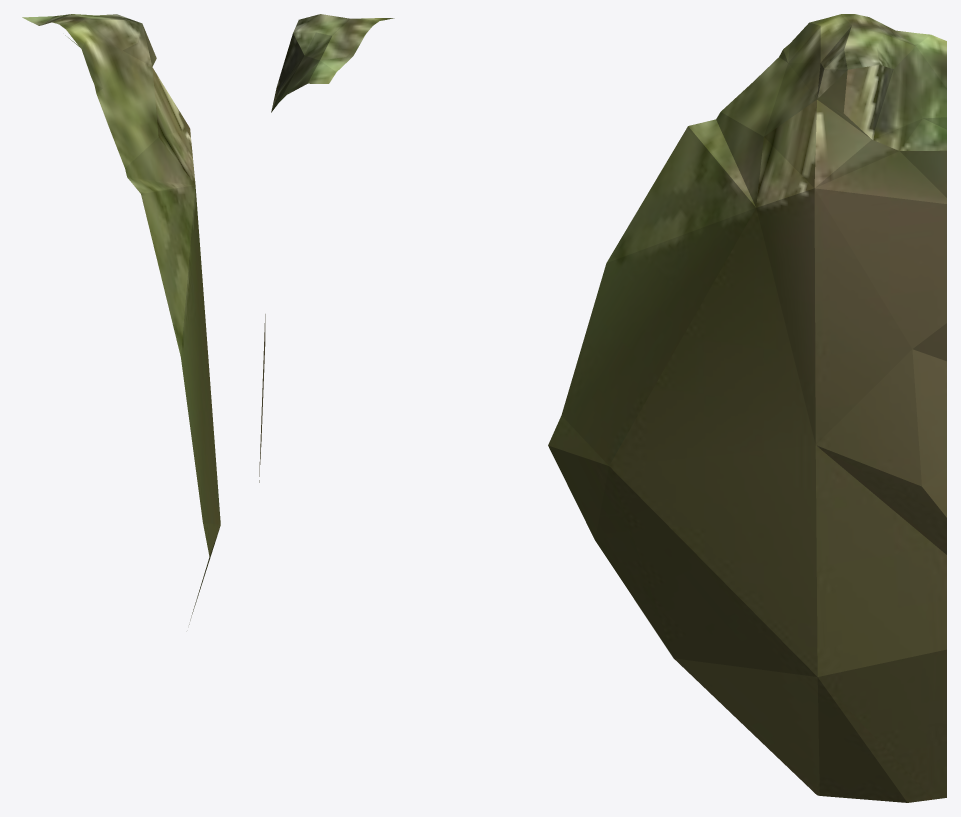
3 renders of one model, left to right at view 1: azimuth 30°, elevation 25°; view 2: azimuth 150°, elevation 25°; view 3: azimuth 270°, elevation 25°, orthographic. The views are drawn at different scales.
Bounding box in the file's own units: 0.3889 × 2.56 × 1.18.
1 material, 1 textured.
